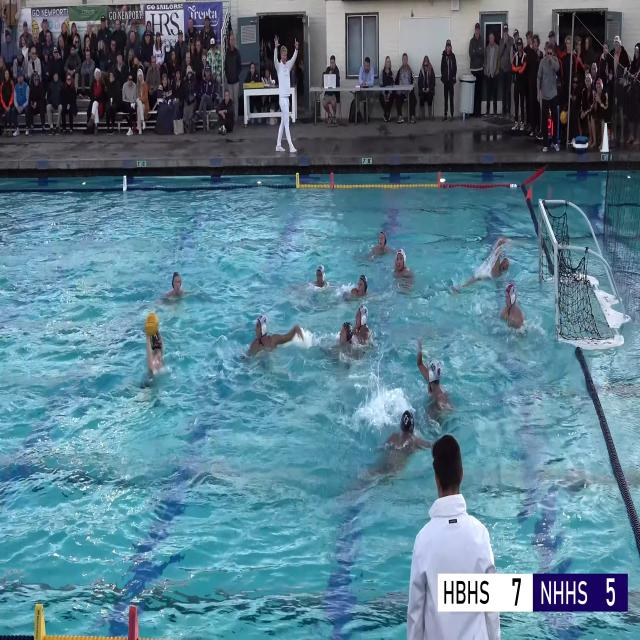ball: (145, 312, 158, 336), (560, 110, 567, 124)
